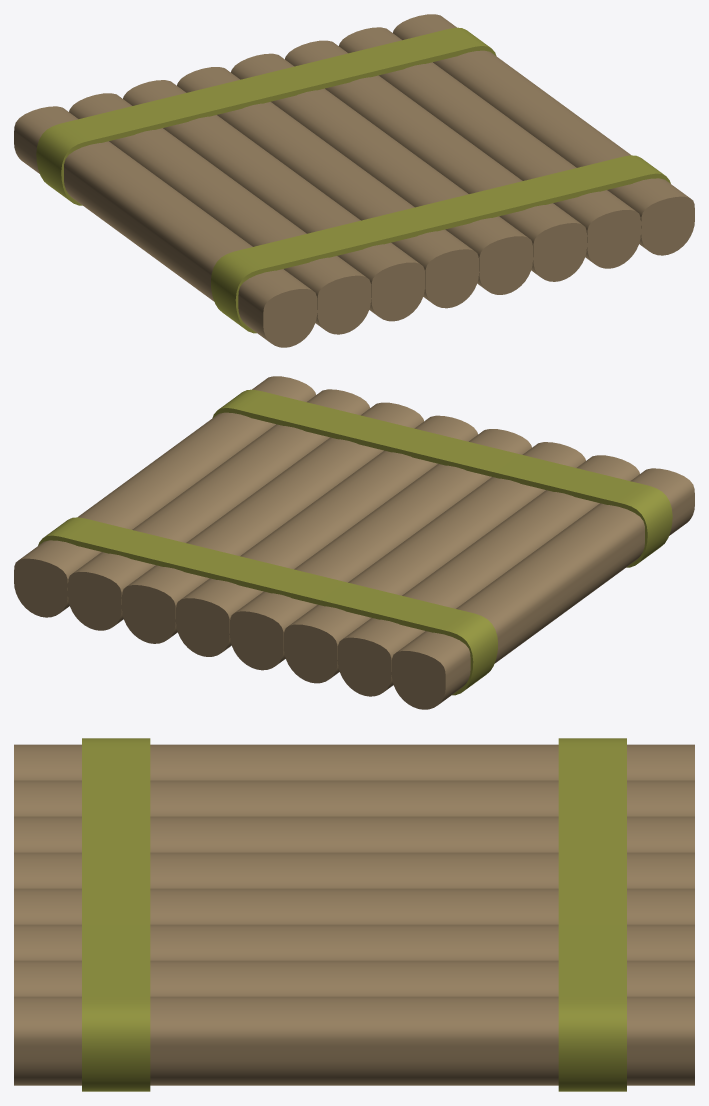
The model's file is AshesOfIndustry.fbx.
3 views of the same model, one above another, from view 1: azimuth 30°, elevation 25°; view 2: azimuth 150°, elevation 25°; view 3: azimuth 270°, elevation 25° (orthographic). The views are drawn at different scales.
Parts seen in each view (by area): view 1: BasicTile, RaftBands; view 2: BasicTile, RaftBands; view 3: BasicTile, RaftBands.
Part boxes in pixels (x1=…): BasicTile: x1=14, y1=14, x2=694, y2=347; RaftBands: x1=36, y1=27, x2=670, y2=333; BasicTile: x1=14, y1=376, x2=694, y2=709; RaftBands: x1=38, y1=389, x2=672, y2=695; BasicTile: x1=14, y1=744, x2=694, y2=1085; RaftBands: x1=82, y1=738, x2=626, y2=1091.
Size of the model in its own units: 101 by 14.33 by 100.
